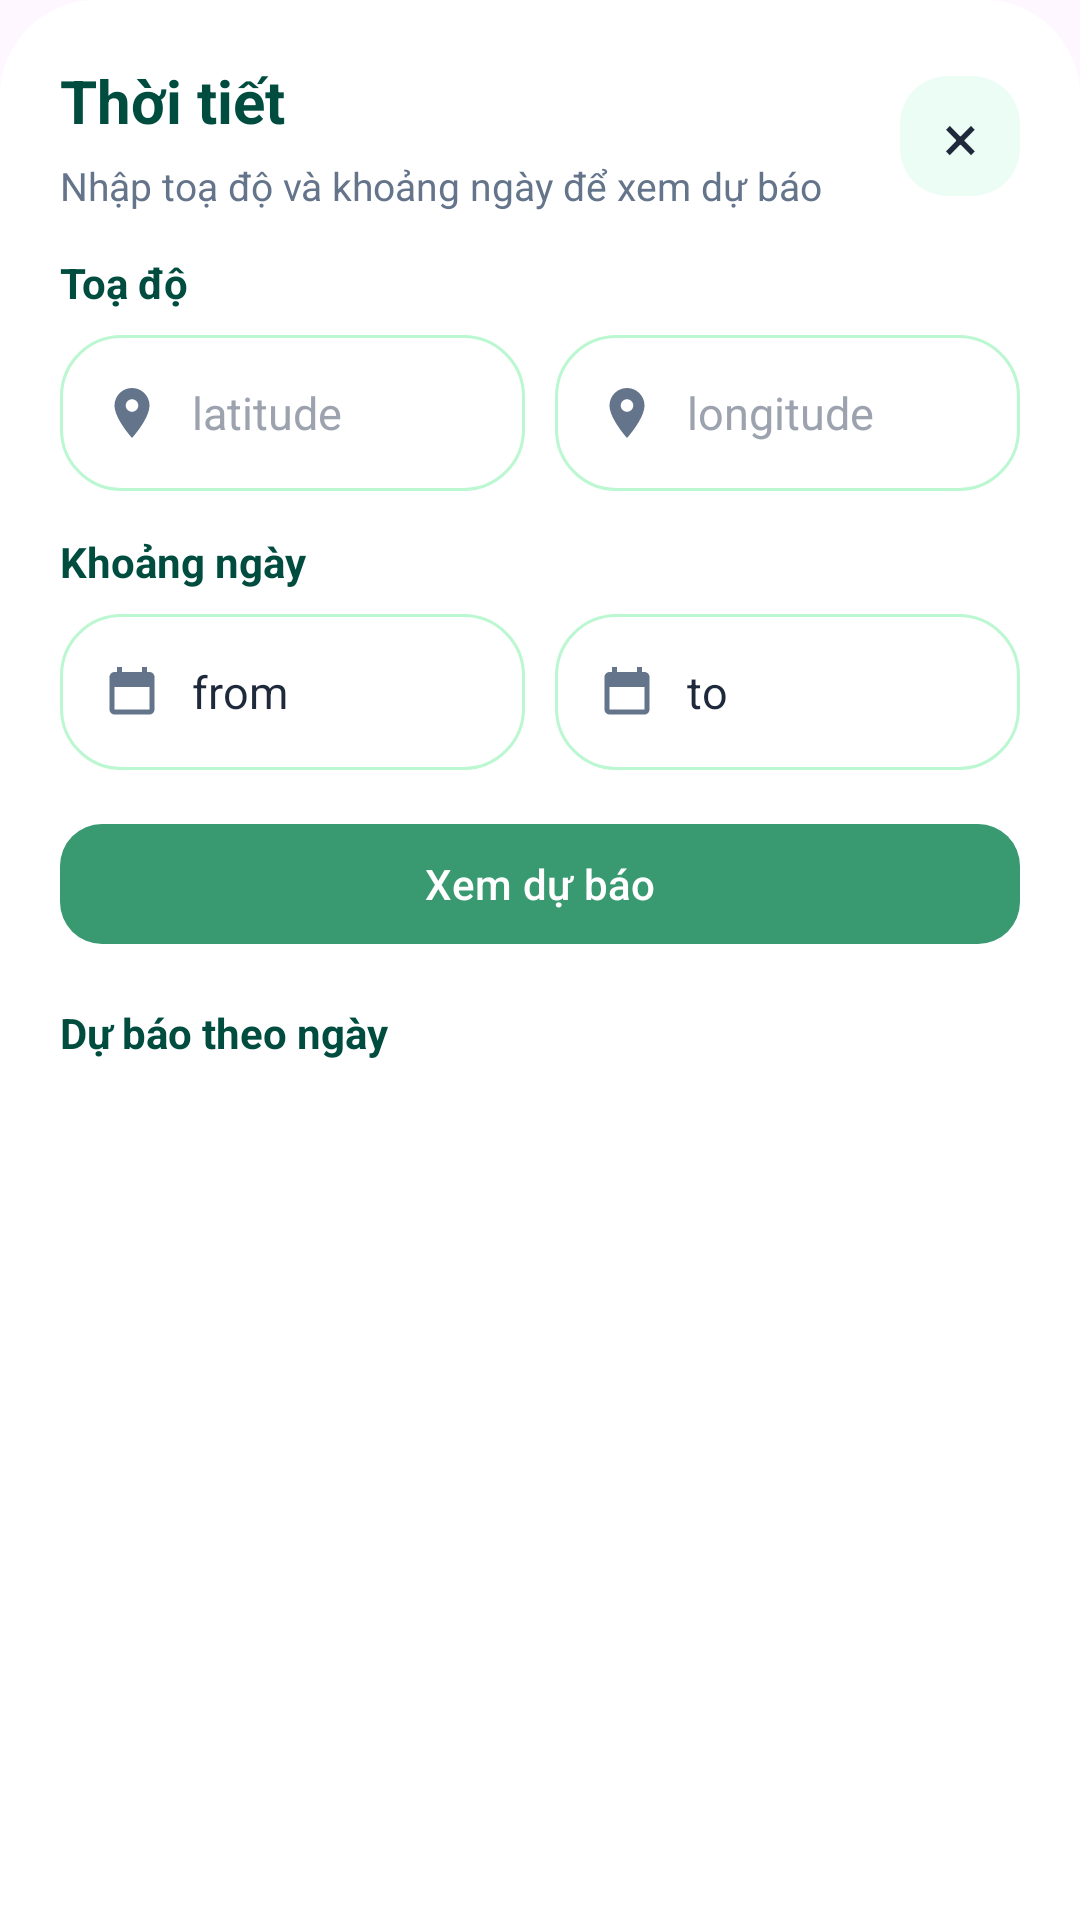

Where icons sit on this 1080px×1920px app screen, as rect(x1, y1, x2, y2):
calendar: rect(109, 667, 155, 715), rect(604, 667, 650, 715)
pin: rect(114, 388, 150, 438), rect(609, 388, 645, 438)
